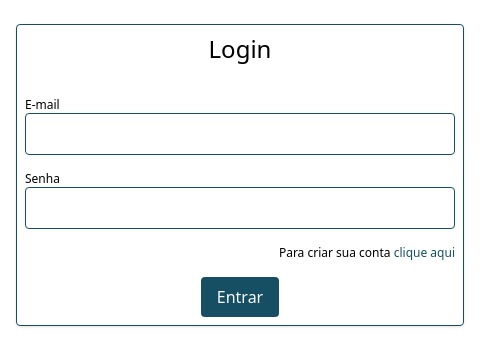
it: <LoginScreen /> › should show error mesage
Type "hitaloose@gmail.com" into the field with test id "email". click: point(240, 134)
box: [25,113,455,155]
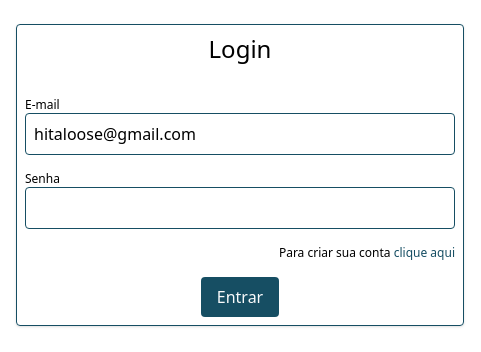
Click the button with test id "submit-btn". click: point(240, 297)
box: [201,277,279,317]
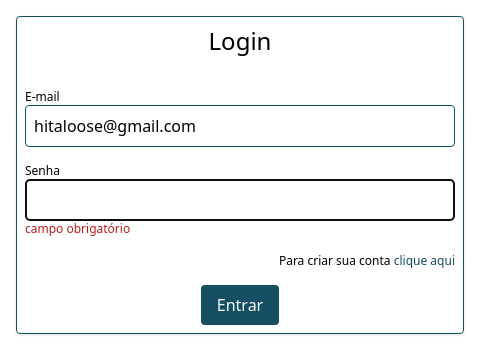
Result: the text "campo obrigatório" is shown at [25,220,130,237]
